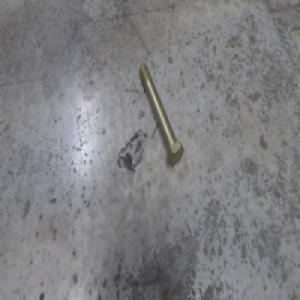Bolt: (138, 61, 183, 167)
